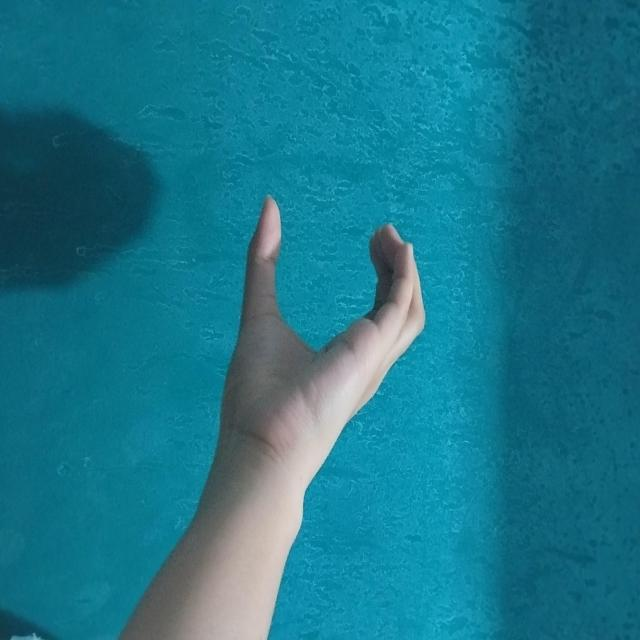C: (191, 212, 458, 424)
